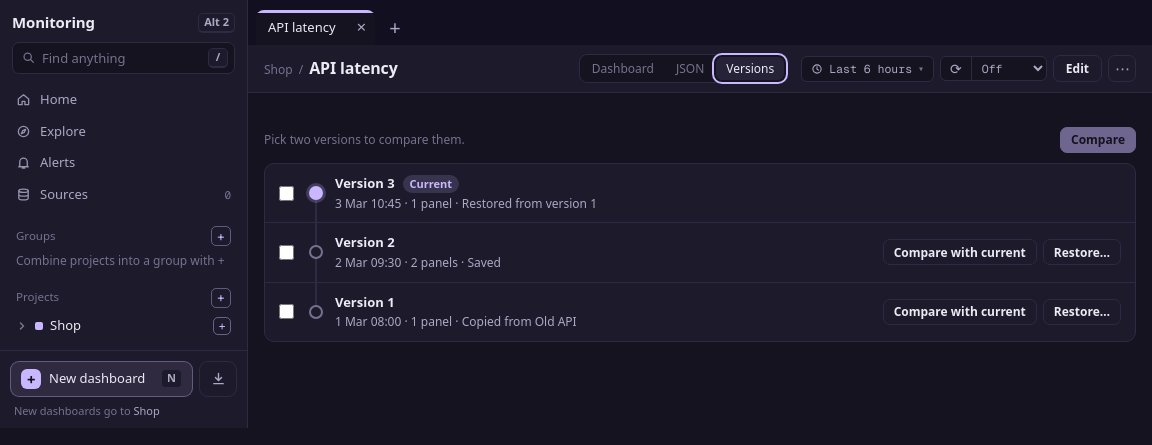
Scenario: The Versions tab › compare two versions shows the diff older on the left
This screenshot has width=1152, height=445.
Earlier steps of the test are not shown.
Later steps or results of the test are not shown.
Click the checkbox named "Pick version 3 to compare": (286, 193) x1=279 y1=186 x2=294 y2=201
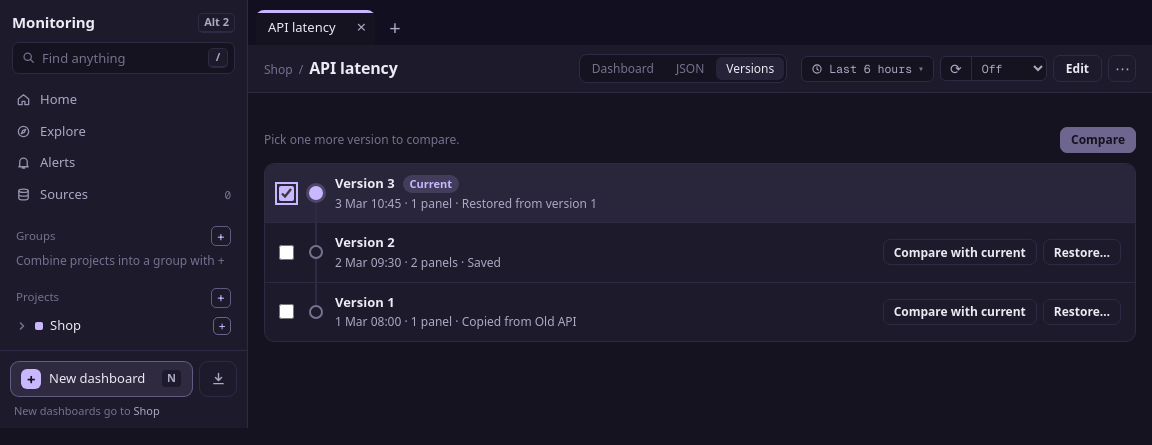
Click the checkbox named "Pick version 1 to compare": (286, 312) x1=279 y1=304 x2=294 y2=319
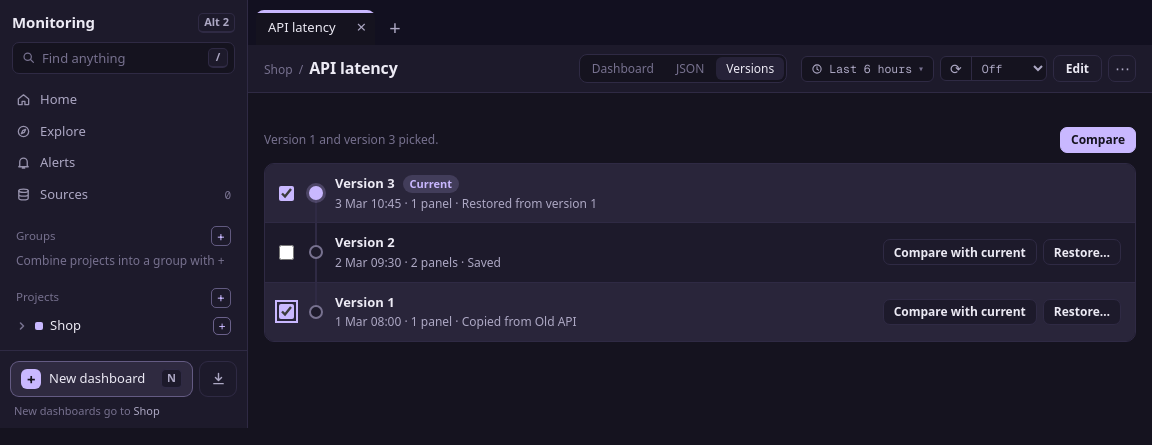
expect the button "Compare" does not have attribute aria-disabled: met, box x1=1060 y1=127 x2=1136 y2=153
